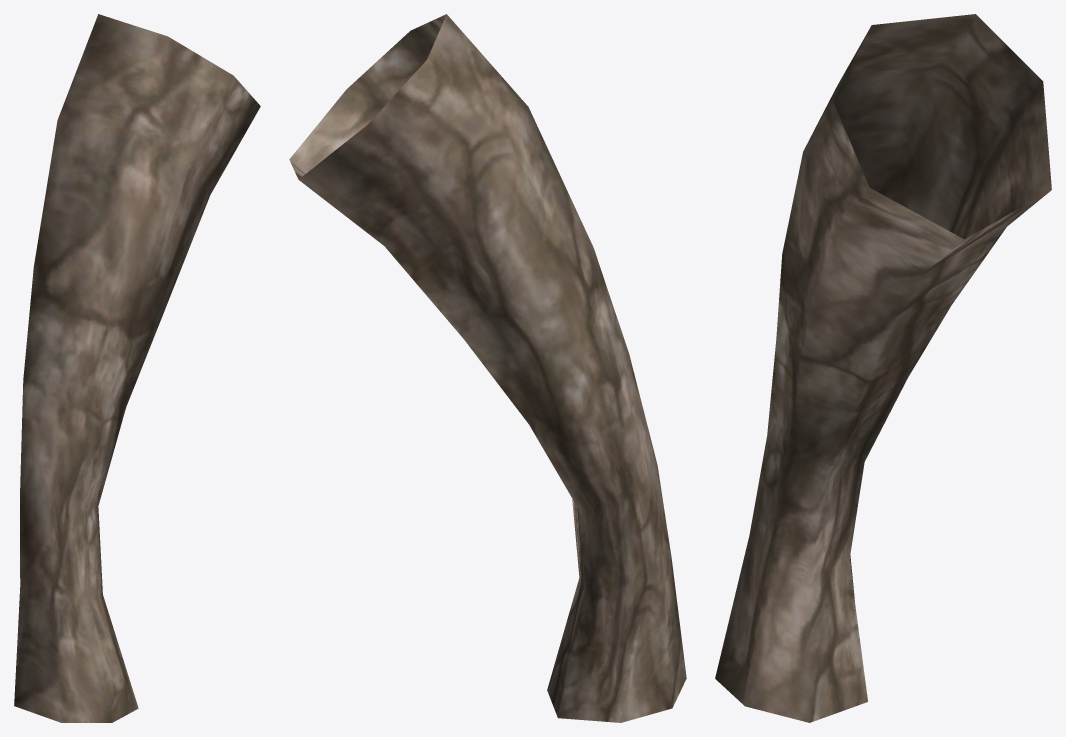
Rendered from EKH_JAIL_PS_JA_GR_CYLINDER20.fbx.
3 renders of one model, left to right at view 1: azimuth 30°, elevation 25°; view 2: azimuth 150°, elevation 25°; view 3: azimuth 270°, elevation 25°, orthographic. The views are drawn at different scales.
Visible parts, largest first — view 1: EKH_JAIL_PS_JA_GR_CYLINDER20; view 2: EKH_JAIL_PS_JA_GR_CYLINDER20; view 3: EKH_JAIL_PS_JA_GR_CYLINDER20.
Part boxes in pixels (left/top/right/bottom): EKH_JAIL_PS_JA_GR_CYLINDER20: left=14, top=14, right=260, bottom=722; EKH_JAIL_PS_JA_GR_CYLINDER20: left=289, top=14, right=686, bottom=722; EKH_JAIL_PS_JA_GR_CYLINDER20: left=715, top=14, right=1051, bottom=722.
Bounding box in the file's own units: 38274 × 79686 × 33066.
1 material, 1 textured.
